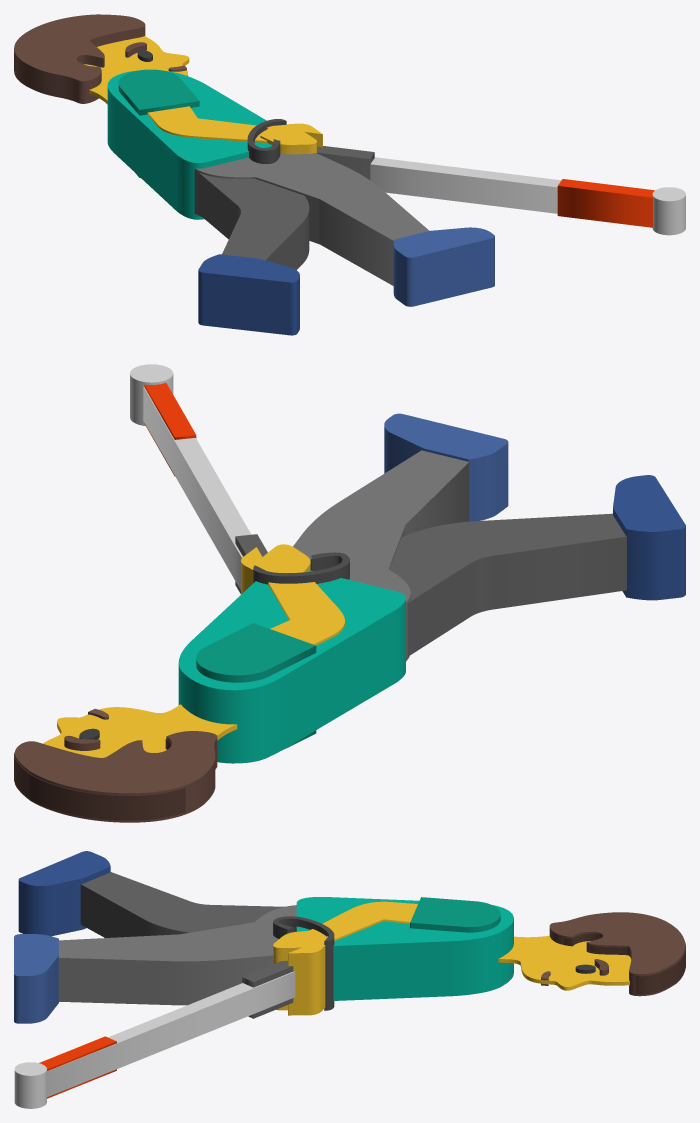
File: emoji_u1f468_200d_1f9af_200d_27a1.glb
3 views of the same model, one above another, from view 1: azimuth 30°, elevation 25°; view 2: azimuth 150°, elevation 25°; view 3: azimuth 270°, elevation 25° (orthographic). The views are drawn at different scales.
Parts seen in each view (by area): view 1: emoji_u1f468_200d_1f9af_200d_27a1; view 2: emoji_u1f468_200d_1f9af_200d_27a1; view 3: emoji_u1f468_200d_1f9af_200d_27a1.
Boxes of the visible parts, x1=… form: emoji_u1f468_200d_1f9af_200d_27a1: x1=14, y1=14, x2=685, y2=335; emoji_u1f468_200d_1f9af_200d_27a1: x1=14, y1=364, x2=685, y2=822; emoji_u1f468_200d_1f9af_200d_27a1: x1=14, y1=851, x2=685, y2=1108.
Bounding box in the file's own units: 0.0252 × 0.0038 × 0.0332.
